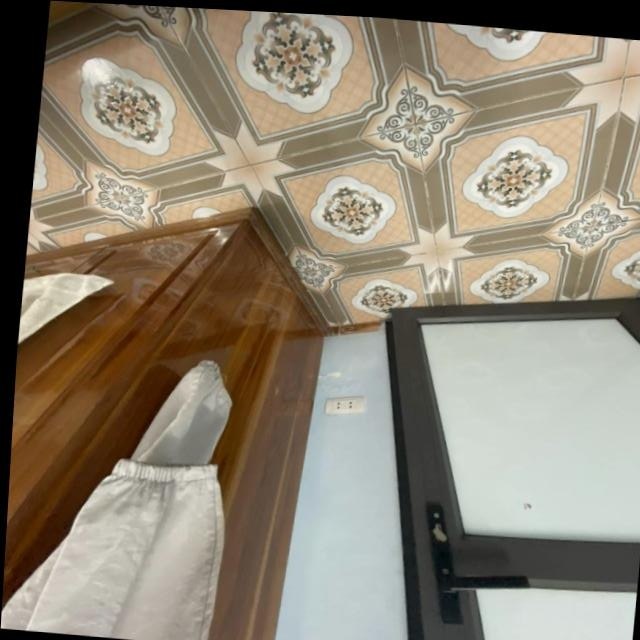outlet: (323, 394, 365, 419)
